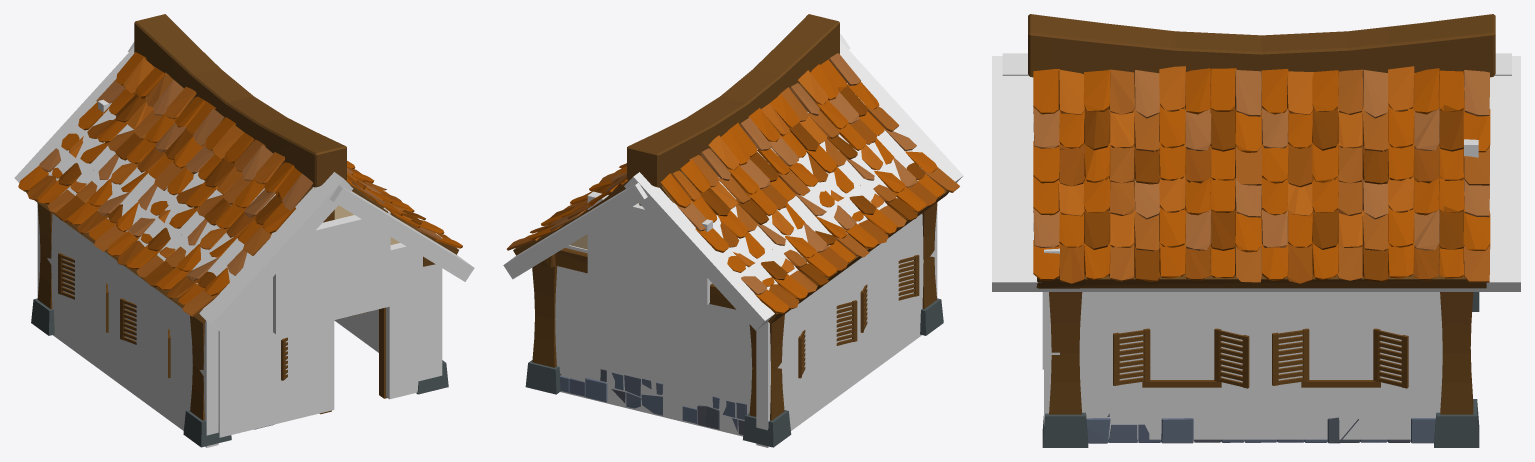
The model's file is house_1.glb.
3 renders of one model, left to right at view 1: azimuth 30°, elevation 25°; view 2: azimuth 150°, elevation 25°; view 3: azimuth 270°, elevation 25°, orthographic. The views are drawn at different scales.
Visible parts, largest first — view 1: House_01, Cube, Cube.006, Cube.003, Cube.002, Cube.007, Cube.005, Cube.001; view 2: House_01, Cube.004, Cube, Cube.006, Cube.008, Cube.005; view 3: House_01, Cube.001, Cube.005, Cube.006, Cube.007.
Part boxes in pixels (x1=…): House_01: x1=18, y1=14, x2=462, y2=447; Cube: x1=37, y1=208, x2=218, y2=447; Cube.006: x1=14, y1=47, x2=353, y2=332; Cube.003: x1=218, y1=277, x2=334, y2=437; Cube.002: x1=273, y1=207, x2=390, y2=334; Cube.007: x1=386, y1=233, x2=442, y2=399; Cube.005: x1=128, y1=42, x2=474, y2=281; Cube.001: x1=334, y1=309, x2=378, y2=352; House_01: x1=507, y1=14, x2=959, y2=447; Cube.004: x1=555, y1=245, x2=752, y2=436; Cube: x1=756, y1=206, x2=937, y2=447; Cube.006: x1=624, y1=40, x2=963, y2=330; Cube.008: x1=587, y1=191, x2=712, y2=304; Cube.005: x1=503, y1=34, x2=850, y2=279; House_01: x1=1028, y1=14, x2=1495, y2=447; Cube.001: x1=1079, y1=292, x2=1442, y2=439; Cube.005: x1=992, y1=56, x2=1520, y2=291; Cube.006: x1=1002, y1=53, x2=1511, y2=75; Cube.007: x1=1044, y1=248, x2=1059, y2=425.
Size of the model in its own units: 7.28 by 6.83 by 9.33.
1 material, 1 textured.
